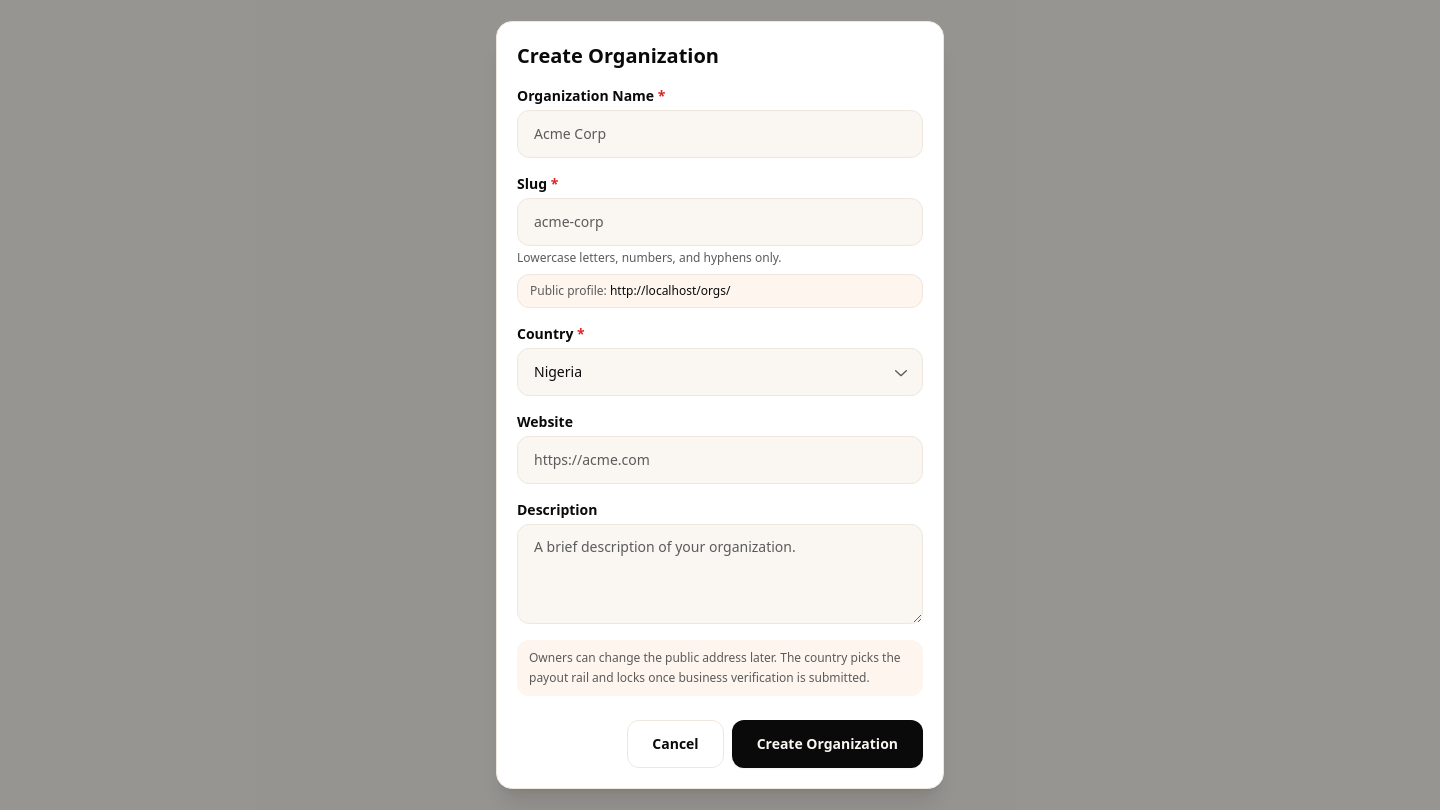
Test: CreateOrganizationDialog slug preview and server errors › shows the server message for any other failure
This screenshot has width=1440, height=810.
In the field labelled "Organization Name *": (720, 134) 517,110 -> 923,158, type "Acme"
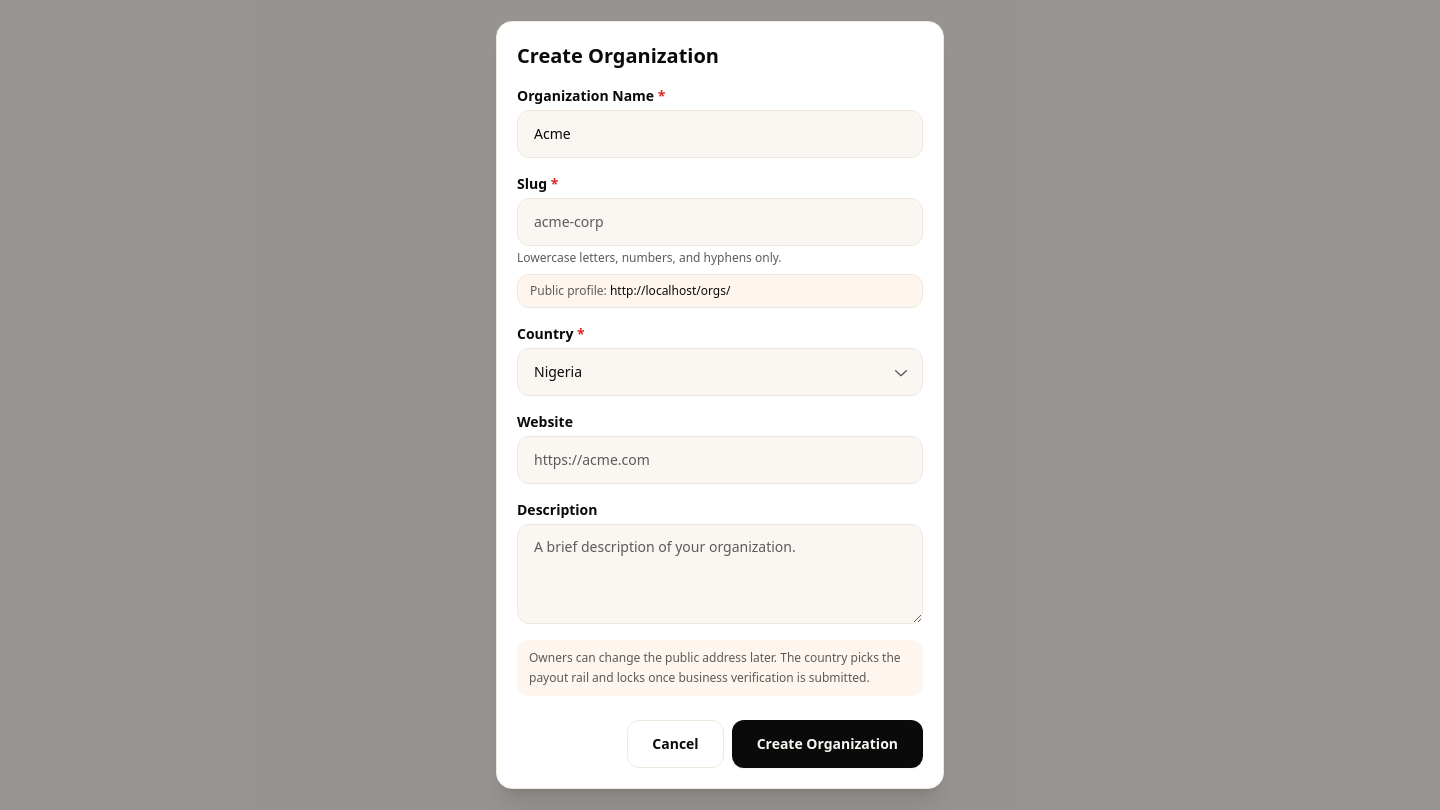
In the field labelled "Slug *": (720, 222) 517,198 -> 923,246, type "acme"
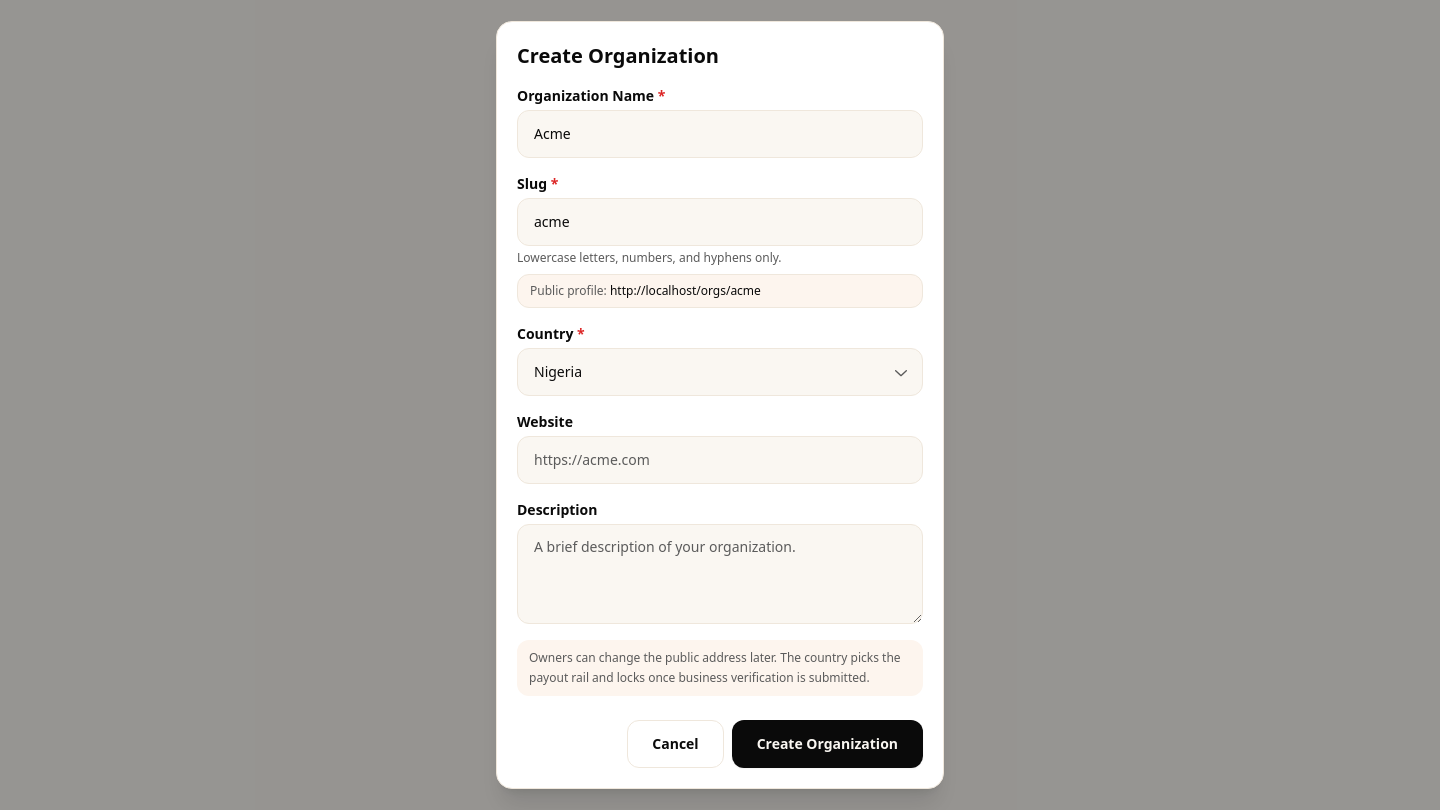
Click the button "Create Organization": (827, 744) 732,720 -> 923,768
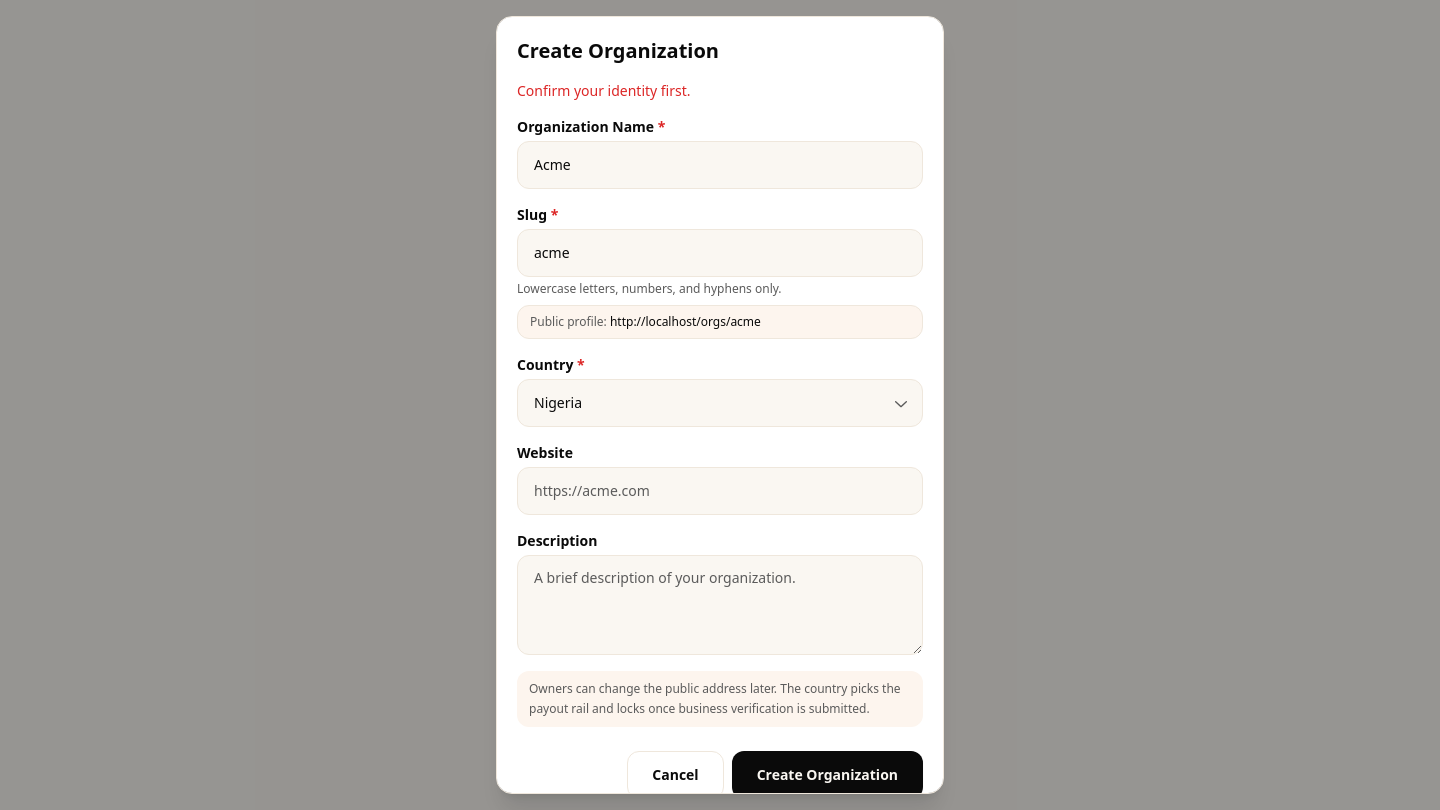
Expected: the text "Confirm your identity first." is shown, 517,81 -> 691,100
